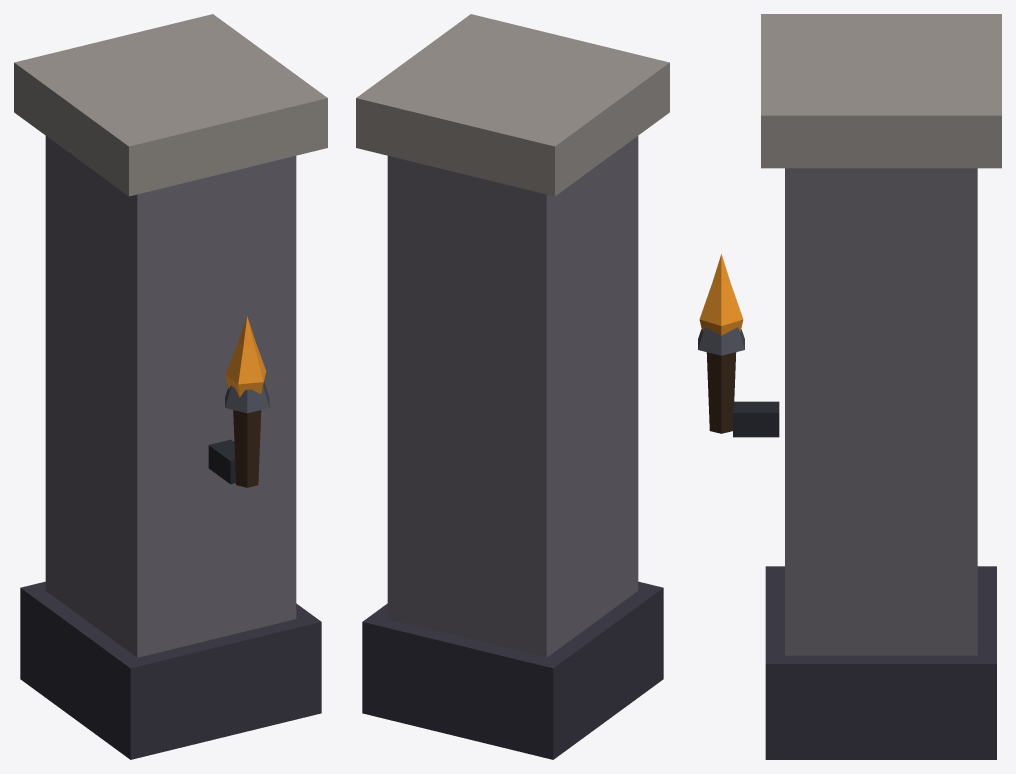
File: wall_post_torch.fbx
3 views of the same model, side by side, from view 1: azimuth 30°, elevation 25°; view 2: azimuth 150°, elevation 25°; view 3: azimuth 270°, elevation 25° (orthographic). The views are drawn at different scales.
Visible parts, largest first — view 1: wall_post_torch; view 2: wall_post_torch; view 3: wall_post_torch.
Part boxes in pixels (x1,y1,x2,y2): wall_post_torch: (14,14,327,759); wall_post_torch: (356,14,669,759); wall_post_torch: (698,14,1001,759).
Bounding box in the file's own units: 1.25 × 3.7 × 1.58.
